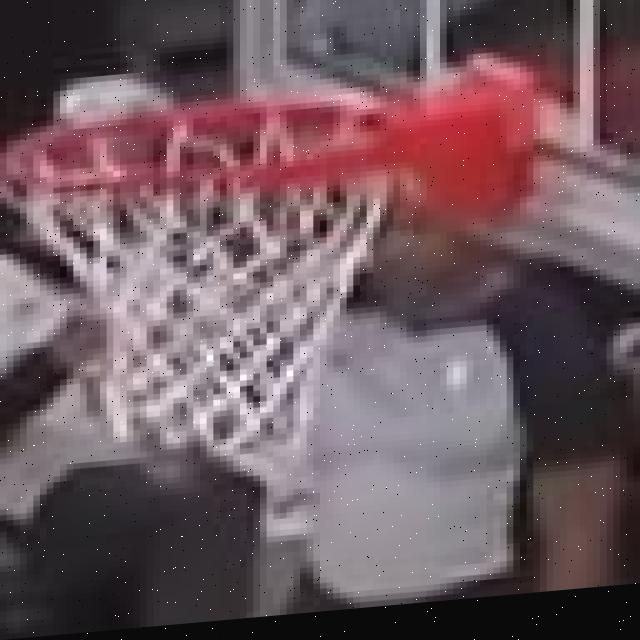hoop: (12, 44, 581, 451)
